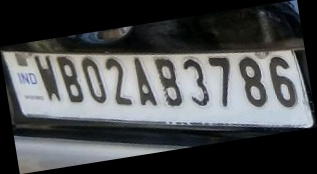character: (267, 56, 299, 109), (54, 54, 85, 104), (154, 54, 183, 107), (238, 55, 267, 108), (182, 54, 210, 108), (104, 56, 133, 107), (33, 54, 61, 103), (206, 54, 231, 108), (80, 55, 108, 103), (132, 56, 158, 107)
